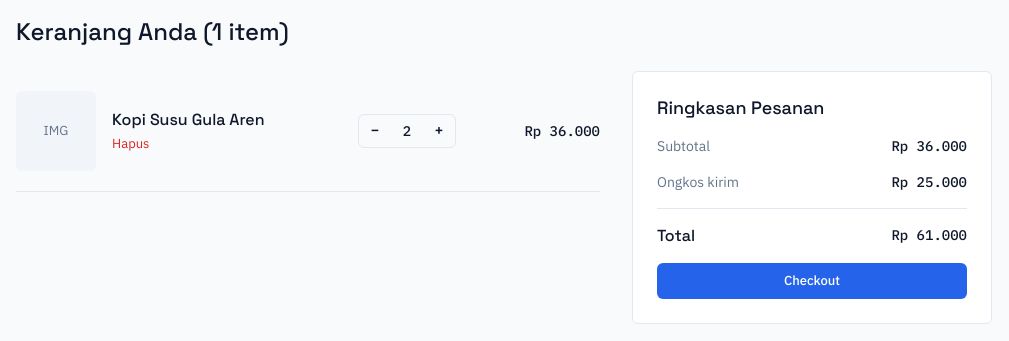
Test: Cart page › removes an item when Hapus is clicked
The image size is (1009, 341).
Click the button "Hapus" at (131, 144), box [112,135,149,153]
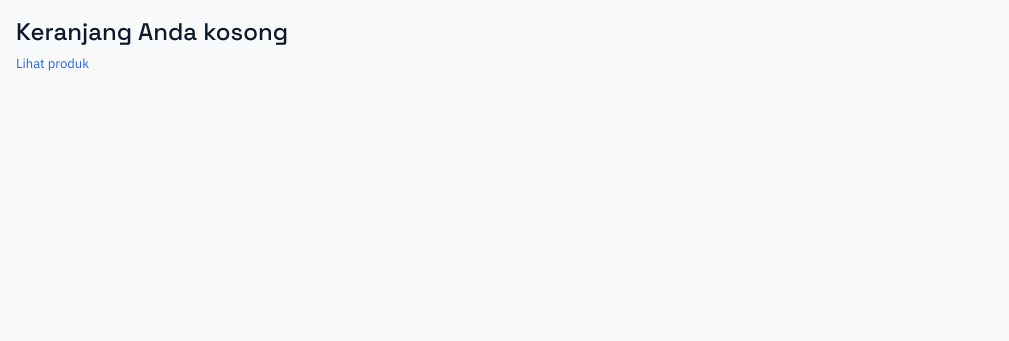
expect the heading "Keranjang Anda kosong" is shown: met, box [16,16,288,47]
